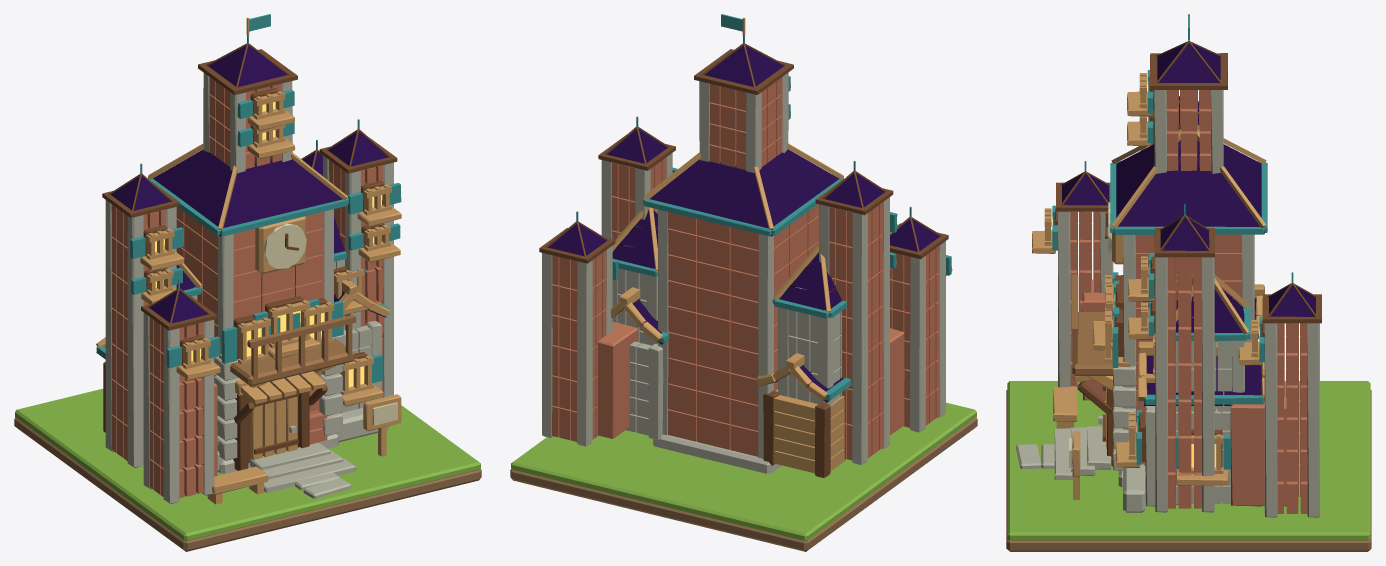
File: town_hall_l14_active_LOD1.glb
3 views of the same model, side by side, from view 1: azimuth 30°, elevation 25°; view 2: azimuth 150°, elevation 25°; view 3: azimuth 270°, elevation 25° (orthographic). The views are drawn at different scales.
Parts seen in each view (by area): view 1: town_hall_l14_active_foundation.001, town_hall_l14_active_grass_tile.001, town_hall_l14_active_earth_tile.001, town_hall_l14_active_path_stone.005; view 2: town_hall_l14_active_foundation.001, town_hall_l14_active_grass_tile.001, town_hall_l14_active_earth_tile.001; view 3: town_hall_l14_active_foundation.001, town_hall_l14_active_grass_tile.001, town_hall_l14_active_earth_tile.001, town_hall_l14_active_path_stone.005.
Boxes of the visible parts, <box> form: town_hall_l14_active_foundation.001: <box>96,14,401,504</box>; town_hall_l14_active_grass_tile.001: <box>15,388,480,541</box>; town_hall_l14_active_earth_tile.001: <box>14,417,481,551</box>; town_hall_l14_active_path_stone.005: <box>303,478,350,498</box>; town_hall_l14_active_foundation.001: <box>539,14,952,477</box>; town_hall_l14_active_grass_tile.001: <box>511,402,976,541</box>; town_hall_l14_active_earth_tile.001: <box>510,417,977,551</box>; town_hall_l14_active_foundation.001: <box>1032,14,1321,517</box>; town_hall_l14_active_grass_tile.001: <box>1007,381,1370,540</box>; town_hall_l14_active_earth_tile.001: <box>1006,390,1371,551</box>; town_hall_l14_active_path_stone.005: <box>1016,444,1041,468</box>.
Size of the model in its own units: 3.6 by 5.03 by 3.6.
